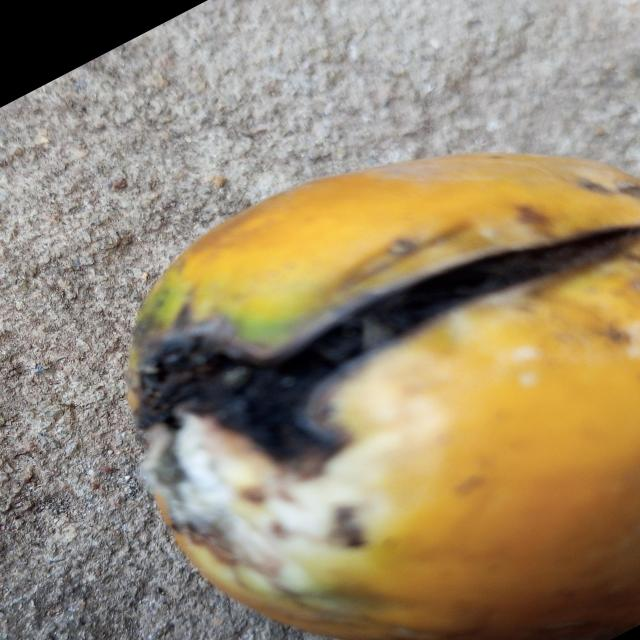damaged: (127, 154, 640, 640)
